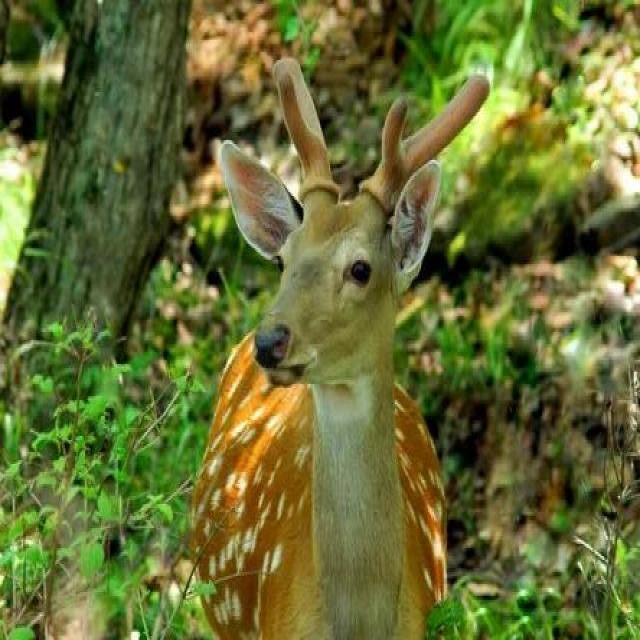deer: (154, 20, 514, 640)
